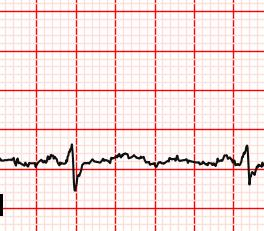Poor R Progression: (63, 142, 77, 170), (239, 141, 251, 170)
ST Depression: (64, 157, 85, 192), (239, 159, 256, 187)
